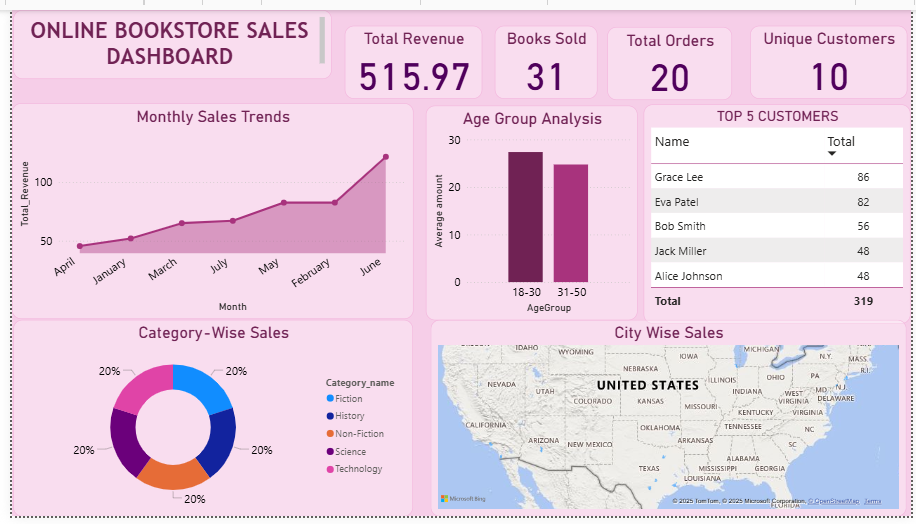

The dashboard page shown, as its layout file describes it:
{"tool":"powerbi","page":{"name":"Page 1","canvas":[1280,720],"ordinal":0},"visuals":[{"type":"card","title":"Total Revenue","fields":{"Values":["Sales.Total_amount"]},"box":[474,22,196,104],"z":0},{"type":"card","title":"Total Orders","fields":{"Values":["Books.Total_orders"]},"box":[848,24,178,104],"z":1000},{"type":"card","title":"Books Sold","fields":{"Values":["Books.Books_sold"]},"box":[688,22,146,104],"z":2000},{"type":"card","title":"Unique Customers","fields":{"Values":["Books.Unique_Customers"]},"box":[1052,22,224,104],"z":3000},{"type":"areaChart","title":"Monthly Sales Trends","fields":{"Category":["Sales.Month"],"Y":["Sales.Total_amount"]},"box":[0,133.1,571.6,307.3],"z":4000},{"type":"donutChart","title":"Category-Wise Sales","fields":{"Category":["Categories.Category_name"],"Y":["Sales.Total_amount"]},"box":[2,440.5,569.7,279.9],"z":5000},{"type":"tableEx","title":"TOP 5 CUSTOMERS","fields":{"Values":["Customers.Name","Sales.Total_amount"]},"box":[900,134,380,312],"z":6000},{"type":"filledMap","title":"City Wise Sales","fields":{"Category":["Customers.City"]},"box":[597.1,440.5,677.3,279.9],"z":7000},{"type":"clusteredColumnChart","title":"Age Group Analysis","fields":{"Category":["Customers.AgeGroup"],"Y":["Sales.Total_amount"]},"box":[590,136,302,306],"z":8000},{"type":"textbox","box":[2,0,454,98],"z":8001}]}

Visuals, with their boxes in screenshot pixels (x1, y1, x2, y2), scaled from the page's 1280x720 canvas onto the 916x524 screenshot:
"Total Revenue" card: {"x1": 339, "y1": 16, "x2": 479, "y2": 92}
"Total Orders" card: {"x1": 607, "y1": 17, "x2": 734, "y2": 93}
"Books Sold" card: {"x1": 492, "y1": 16, "x2": 597, "y2": 92}
"Unique Customers" card: {"x1": 753, "y1": 16, "x2": 913, "y2": 92}
"Monthly Sales Trends" areaChart: {"x1": 0, "y1": 97, "x2": 409, "y2": 321}
"Category-Wise Sales" donutChart: {"x1": 1, "y1": 321, "x2": 409, "y2": 523}
"TOP 5 CUSTOMERS" tableEx: {"x1": 644, "y1": 98, "x2": 915, "y2": 325}
"City Wise Sales" filledMap: {"x1": 427, "y1": 321, "x2": 912, "y2": 523}
"Age Group Analysis" clusteredColumnChart: {"x1": 422, "y1": 99, "x2": 638, "y2": 322}
textbox: {"x1": 1, "y1": 0, "x2": 326, "y2": 71}
